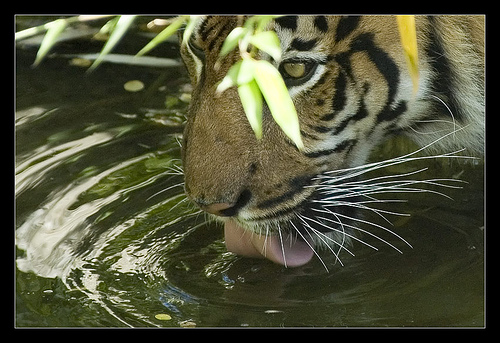Tigre: (175, 20, 406, 262)
